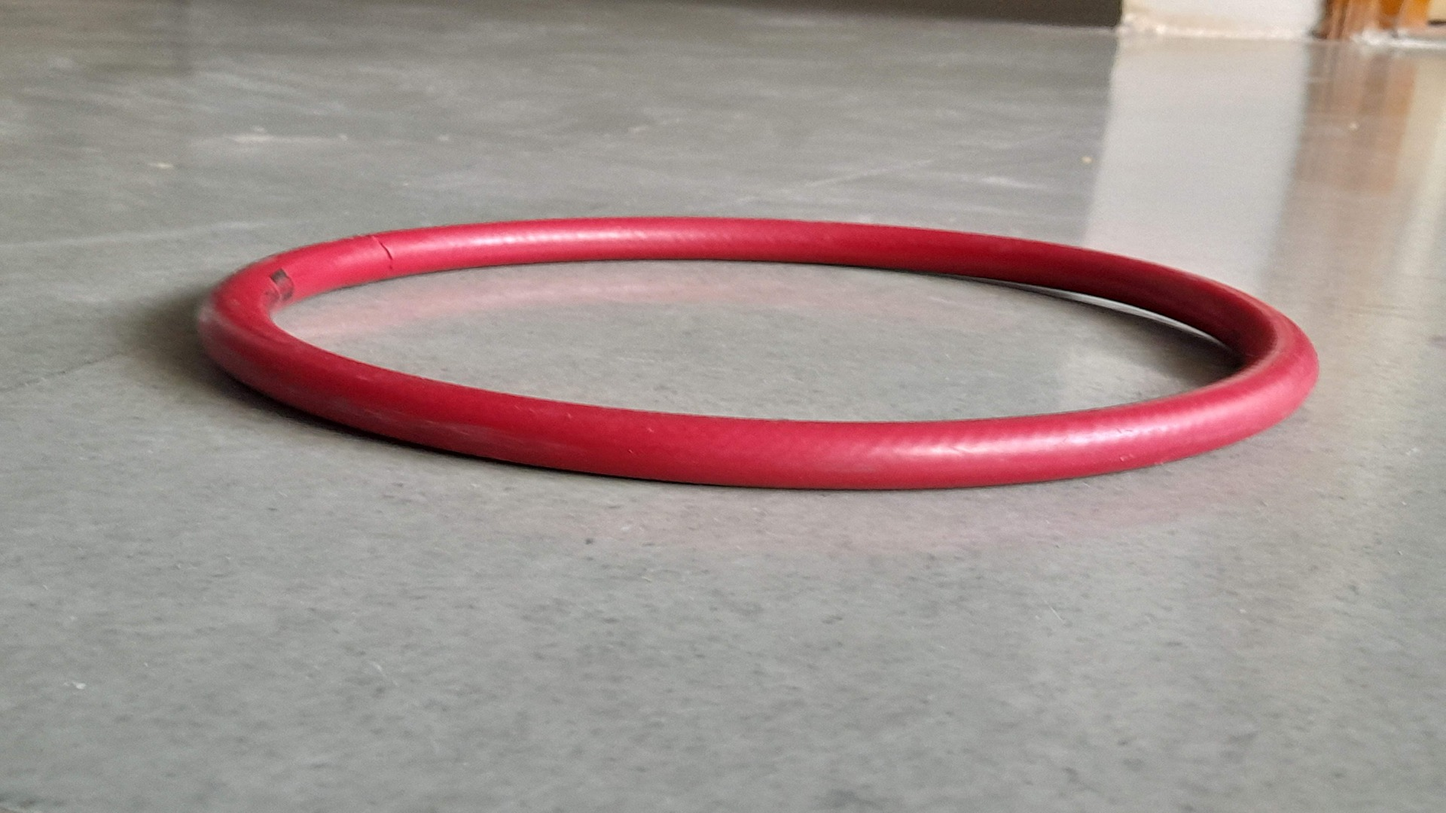Red ring: (196, 218, 1322, 490)
